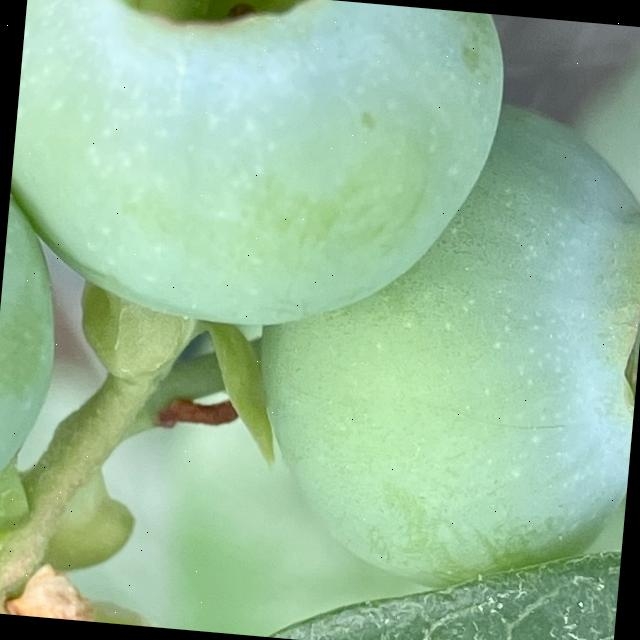Blueberries: (226, 84, 640, 605), (0, 0, 510, 355)
